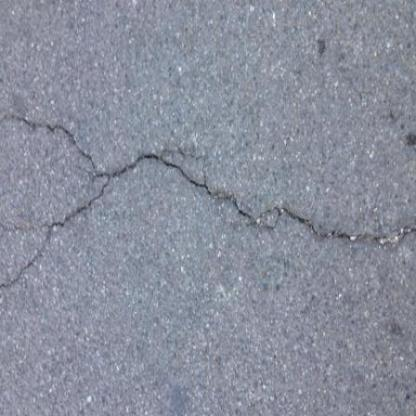Cracks: (2, 148, 416, 255), (0, 156, 122, 300), (1, 105, 130, 185)
